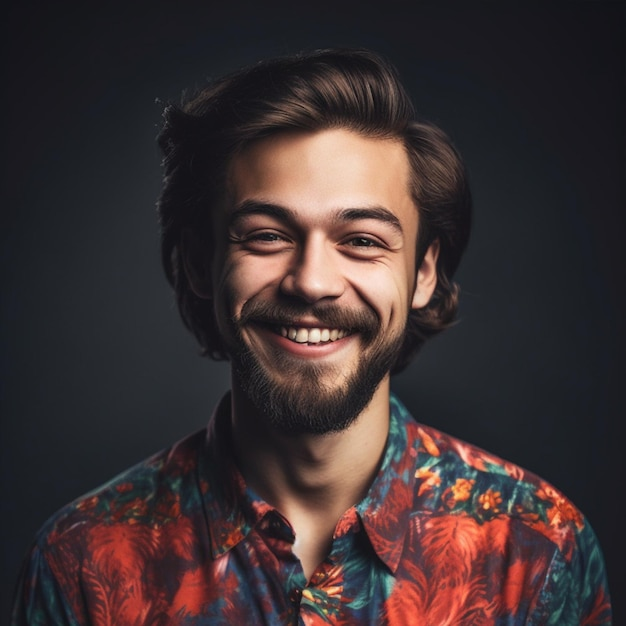young: (148, 77, 481, 434)
